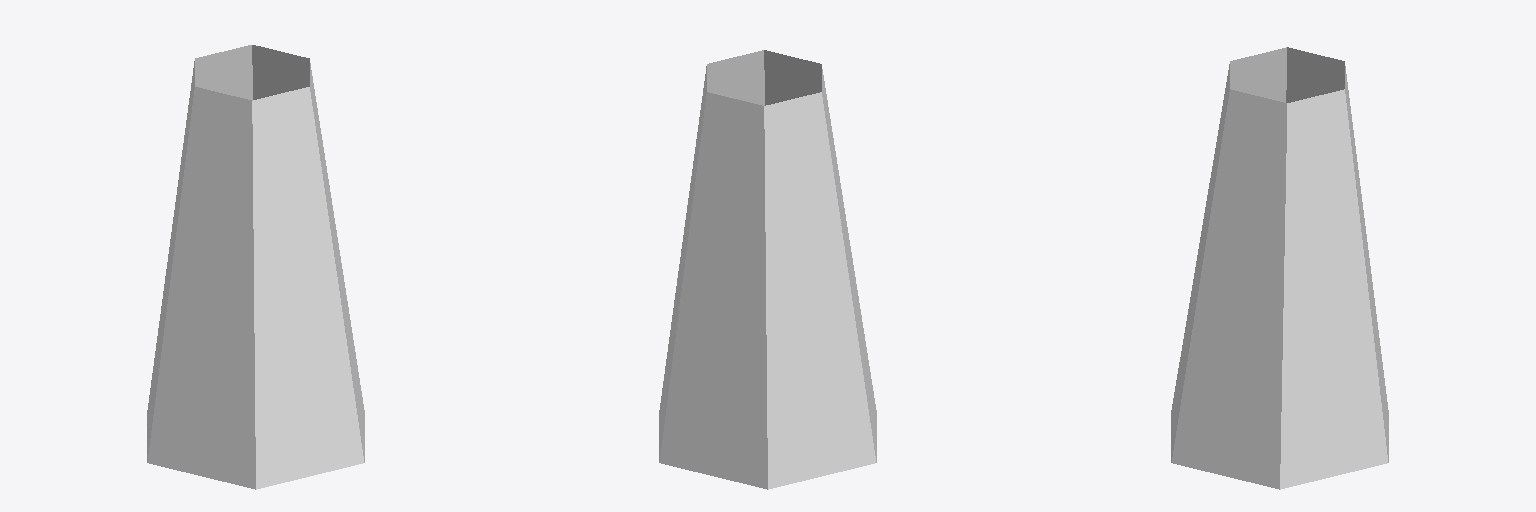
The model's file is morpChamberGlow.obj.
3 renders of one model, left to right at view 1: azimuth 30°, elevation 25°; view 2: azimuth 150°, elevation 25°; view 3: azimuth 270°, elevation 25°, orthographic.
Parts seen in each view (by area): view 1: Default_Prototype, Crate01; view 2: Default_Prototype, Crate01; view 3: Default_Prototype, Crate01.
Part boxes in pixels (left/top/right/bottom): Default_Prototype: left=147, top=45, right=364, bottom=489; Crate01: left=195, top=45, right=252, bottom=100; Default_Prototype: left=659, top=50, right=876, bottom=489; Crate01: left=660, top=92, right=767, bottom=489; Default_Prototype: left=1171, top=47, right=1387, bottom=489; Crate01: left=1345, top=66, right=1388, bottom=462.
Bounding box in the file's own units: 3.78 × 6.01 × 3.27.